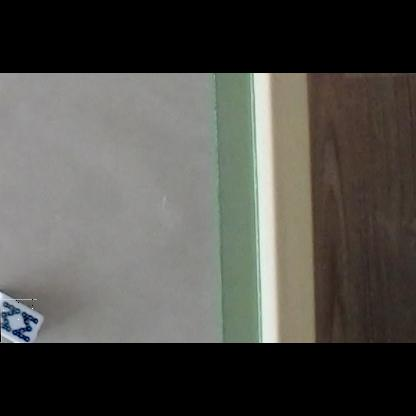8s: (0, 299, 37, 342)
